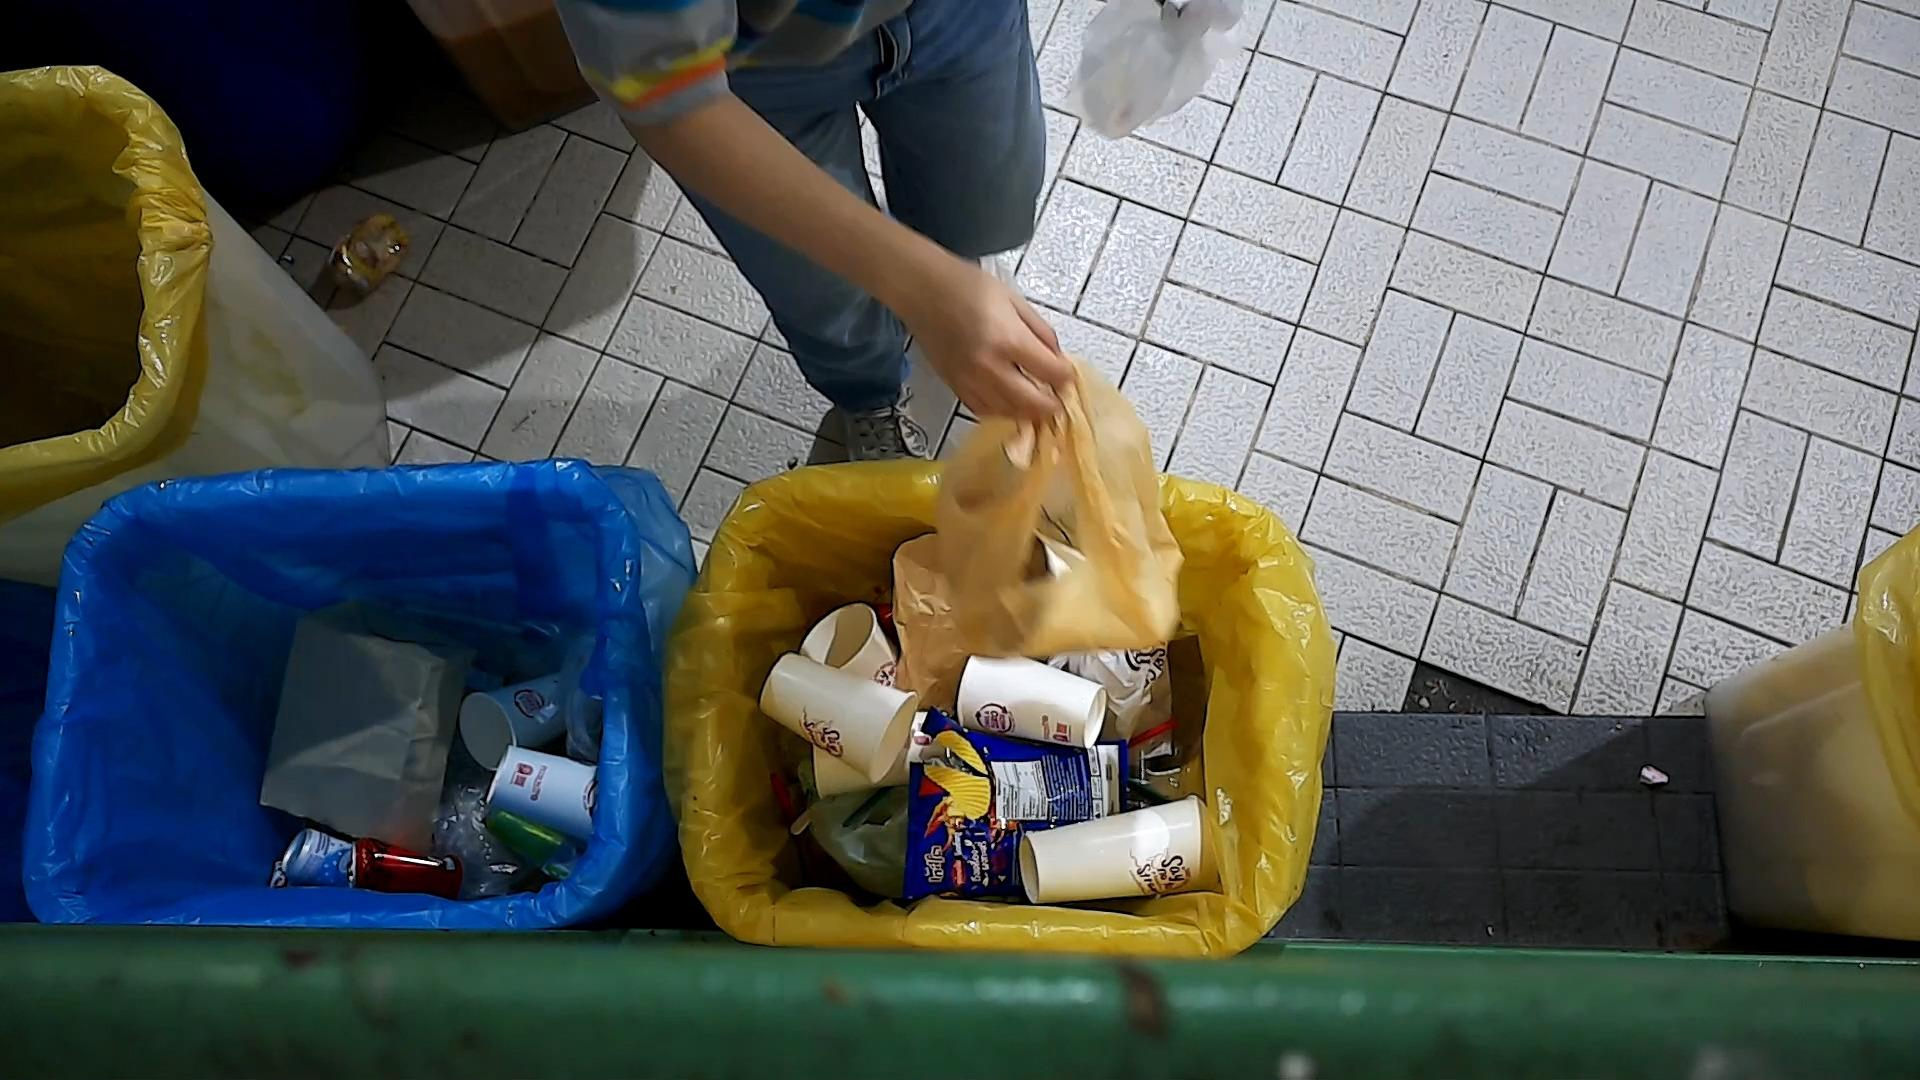can: (344, 832, 467, 903), (480, 804, 588, 884), (272, 825, 356, 887)
filled plastic bag: (926, 343, 1189, 663), (1038, 634, 1185, 765)
paper bag: (258, 589, 481, 858), (887, 529, 971, 708)
plastic bag: (1068, 0, 1263, 148)
snack packaging: (901, 704, 1133, 902)
zero waste cup: (1014, 791, 1225, 910), (754, 646, 919, 790), (951, 637, 1110, 753), (456, 665, 574, 777), (481, 741, 603, 845), (796, 599, 901, 696)
